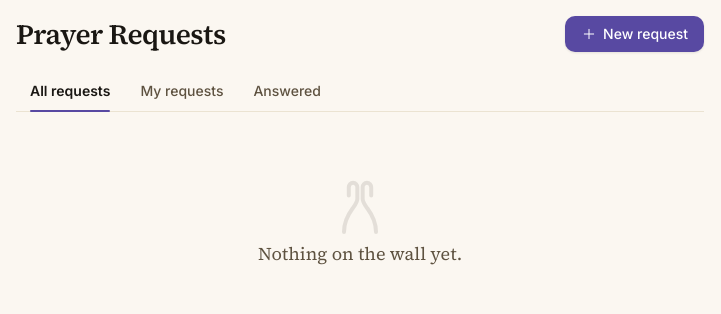
Test: FeedPage › switching filter tab refetches
This screenshot has width=721, height=314.
Click the tab "My requests". click: coordinates (182, 91)
box: x1=126 y1=71 x2=238 y2=111
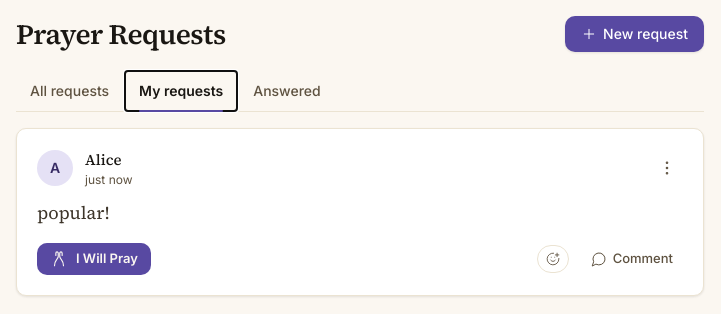
Expected: the text "popular!" is shown, x1=37 y1=200 x2=110 y2=224
